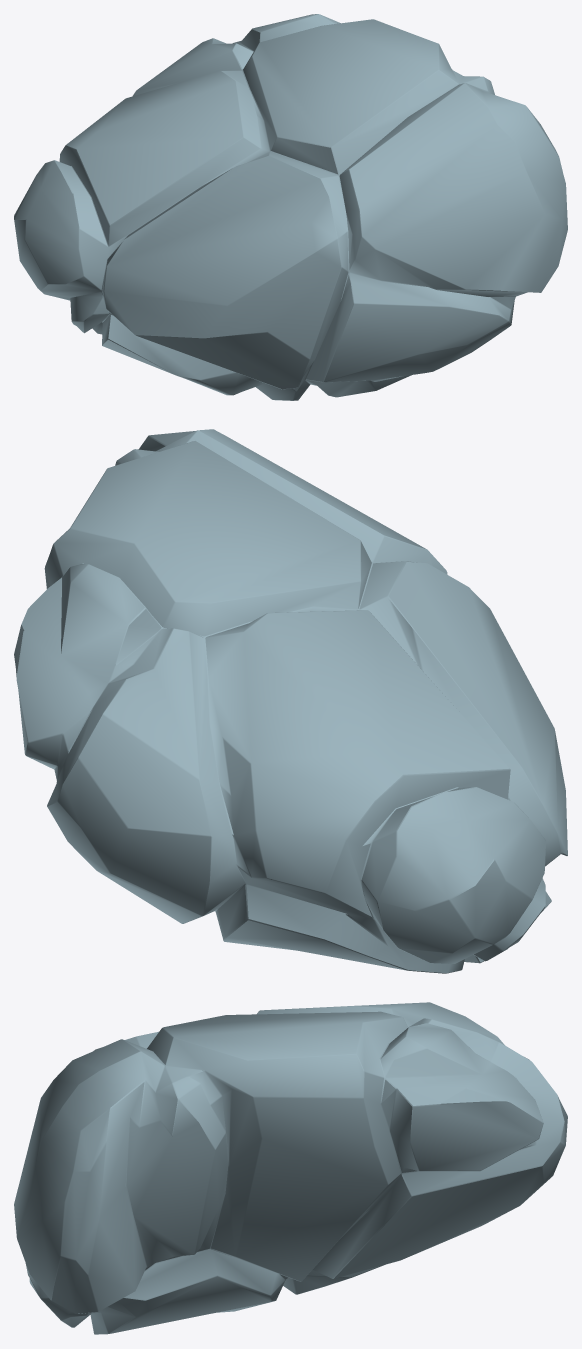
The model's file is Asteroid_04.fbx.
3 views of the same model, one above another, from view 1: azimuth 30°, elevation 25°; view 2: azimuth 150°, elevation 25°; view 3: azimuth 270°, elevation 25° (orthographic). The views are drawn at different scales.
Visible parts, largest first — view 1: Asteroid_04; view 2: Asteroid_04; view 3: Asteroid_04.
Part boxes in pixels (x1,y1,x2,y2): Asteroid_04: (14,14,567,400); Asteroid_04: (14,429,567,973); Asteroid_04: (14,1002,567,1334).
Bounding box in the file's own units: 240 × 166 × 241.
Materials: 1 (1 with a texture image).
